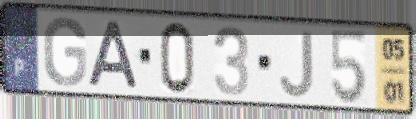0: (157, 20, 197, 96)
3: (211, 24, 251, 98)
5: (328, 28, 369, 107)
A: (85, 18, 142, 92)
G: (41, 15, 89, 89)
J: (277, 30, 316, 100)
